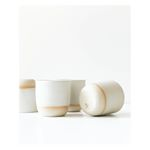cups: (79, 77, 127, 120), (33, 77, 72, 119)
